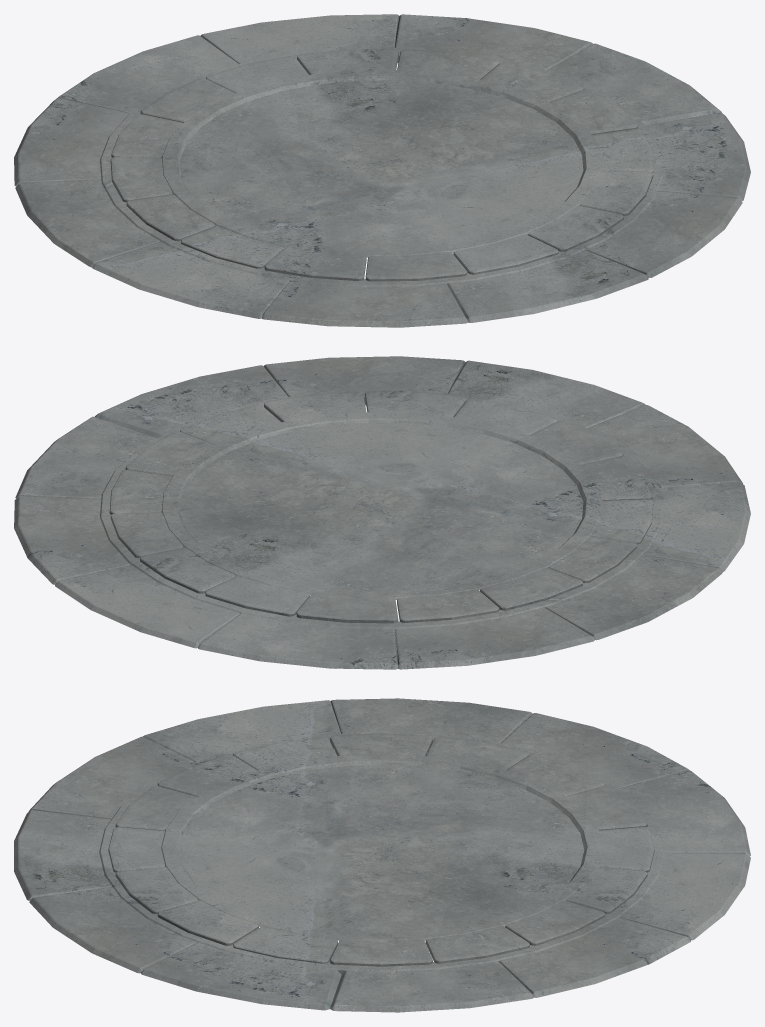
Rendered from ZhuCheng.FBX.
3 views of the same model, one above another, from view 1: azimuth 30°, elevation 25°; view 2: azimuth 150°, elevation 25°; view 3: azimuth 270°, elevation 25° (orthographic).
Parts seen in each view (by area): view 1: ZhuCheng; view 2: ZhuCheng; view 3: ZhuCheng.
Part boxes in pixels (<box>): ZhuCheng: <box>14,14,750,327</box>; ZhuCheng: <box>14,356,750,669</box>; ZhuCheng: <box>14,698,750,1012</box>.
Size of the model in its own units: 553 by 16.3 by 551.
